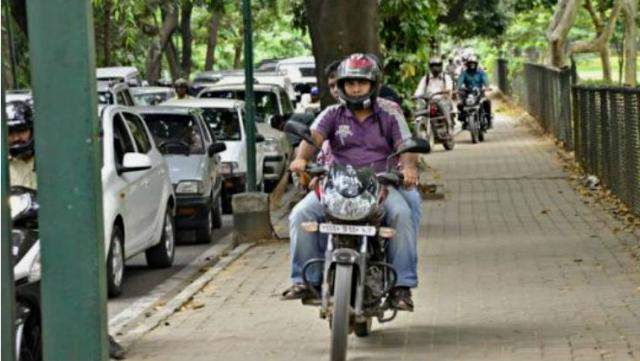licensePlate: (309, 225, 377, 239)
motorcycle: (283, 48, 418, 361)
withHelmet: (331, 52, 381, 115)
